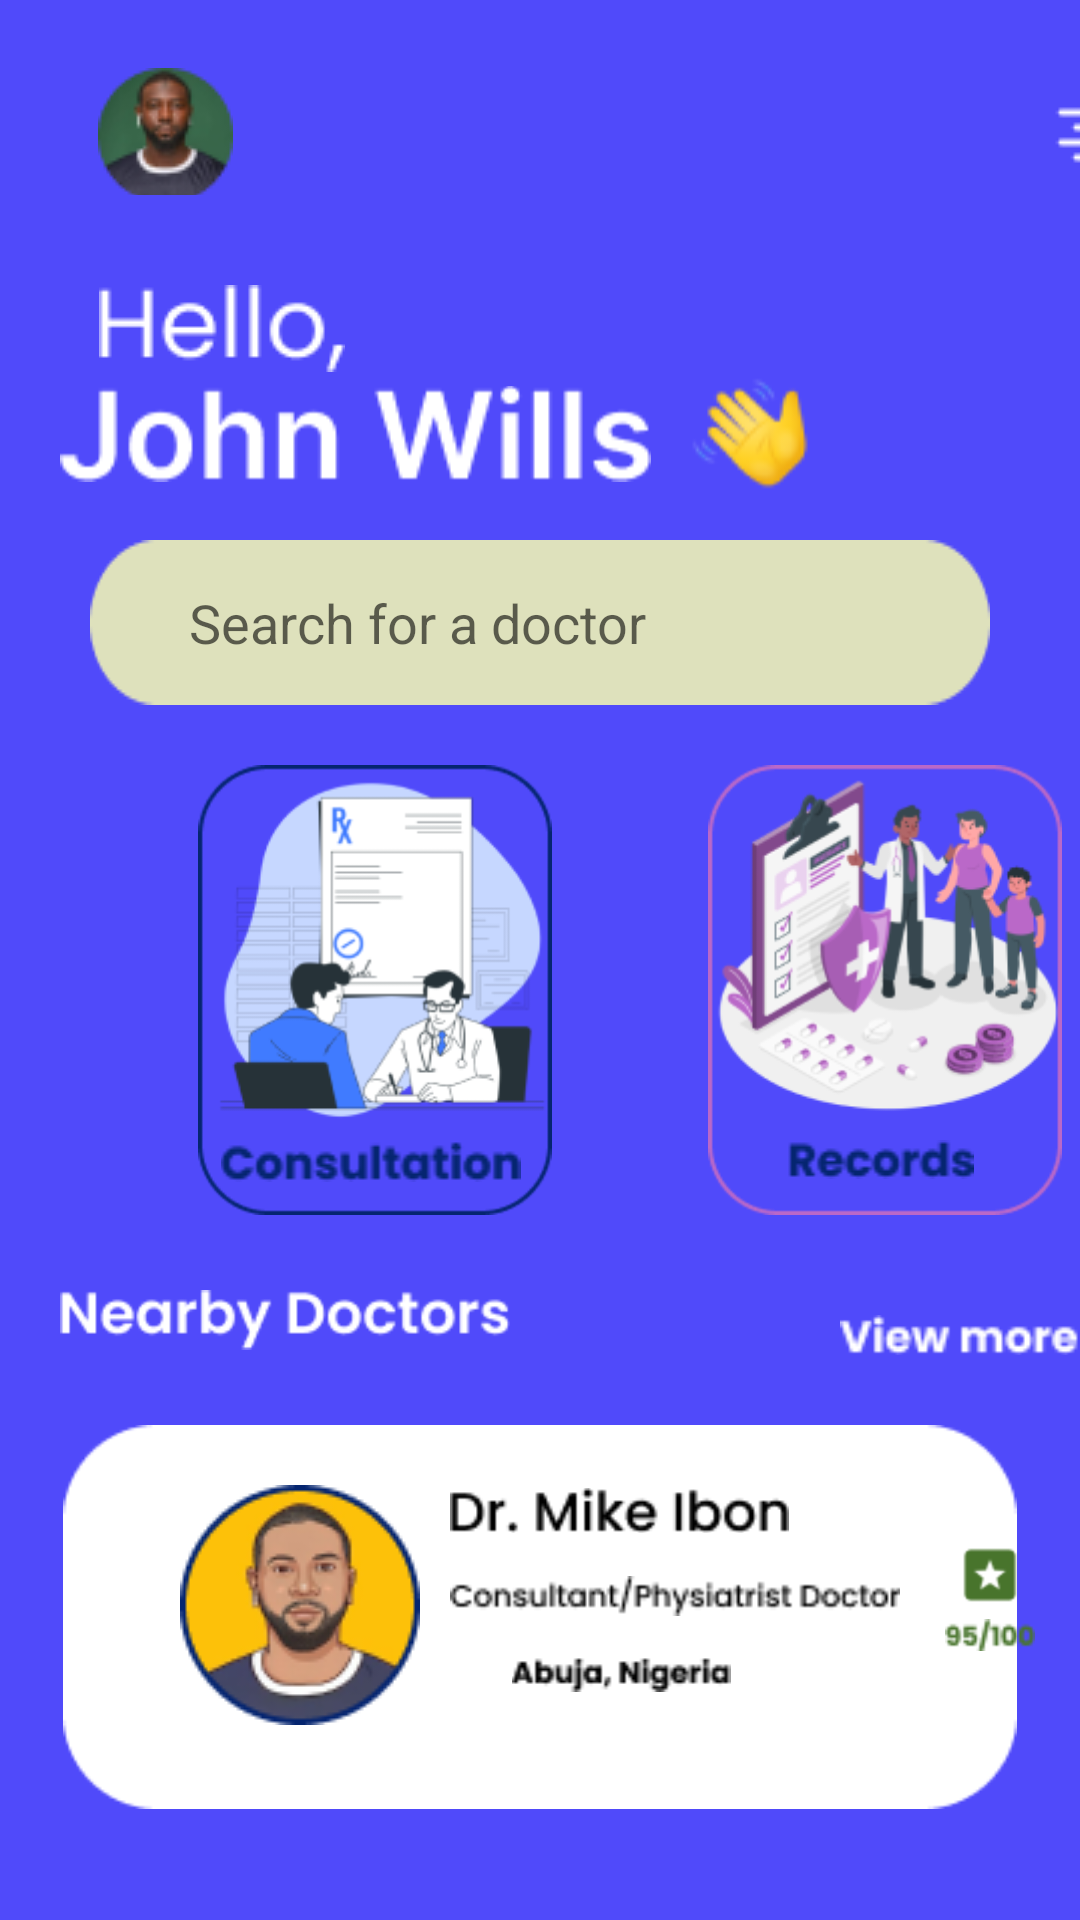

Where to tap for icons on this 1080px x 1920px app screen, as (x=x, y=y):
waving: (x=752, y=435)
